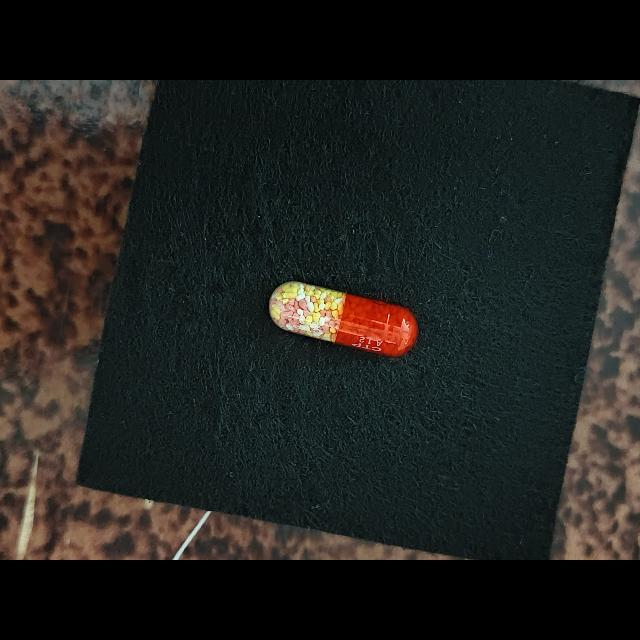Intact Capsule: (269, 281, 418, 357)
